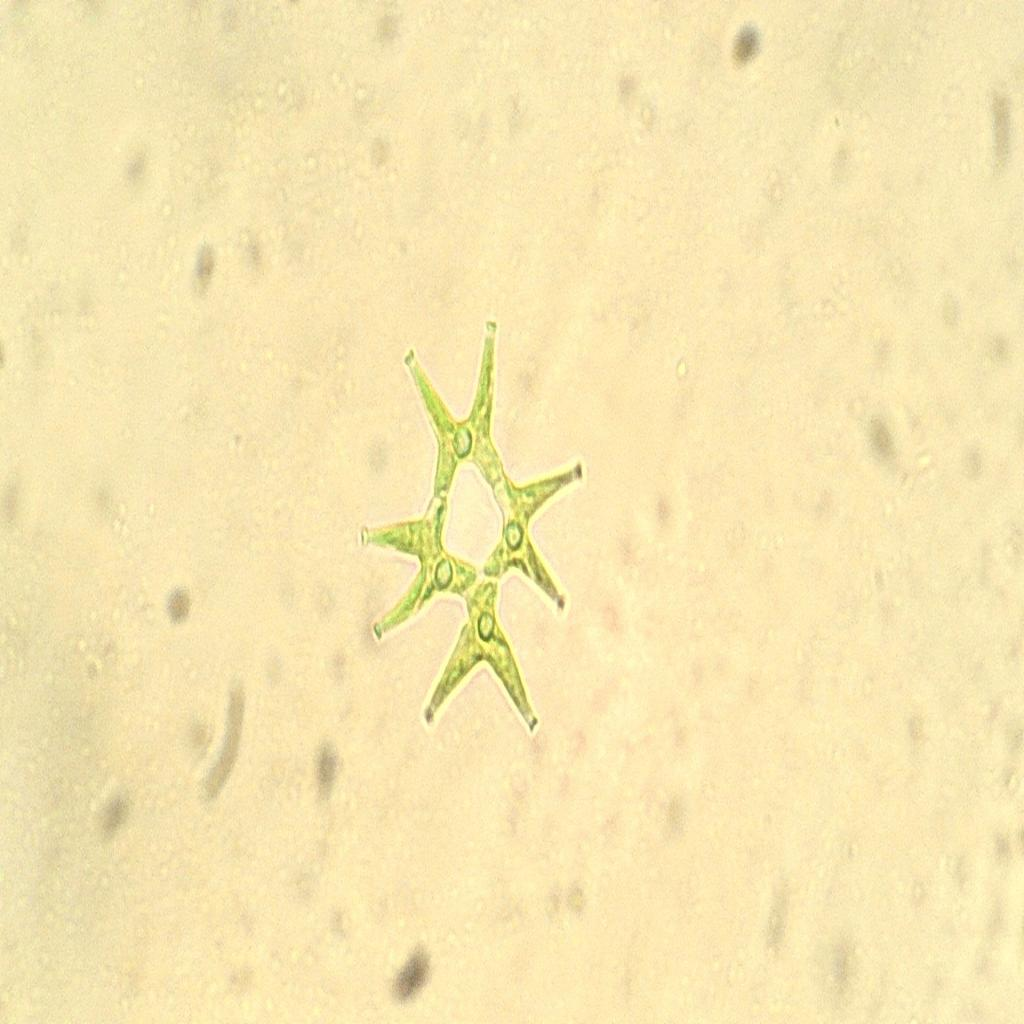Pediastrum_75FI: (350, 297, 604, 756)
